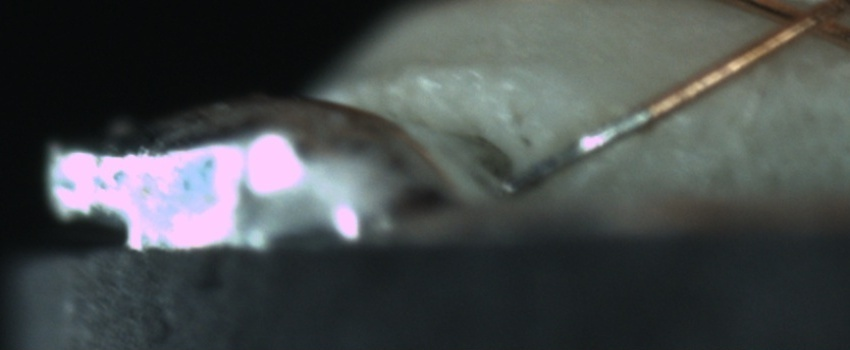CL: (757, 1, 844, 47)
TS: (501, 106, 644, 197)
